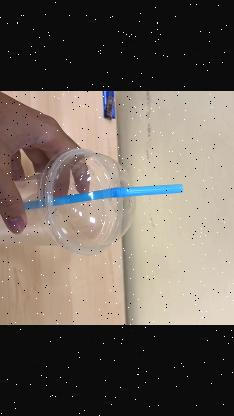Others: (0, 149, 159, 257)
